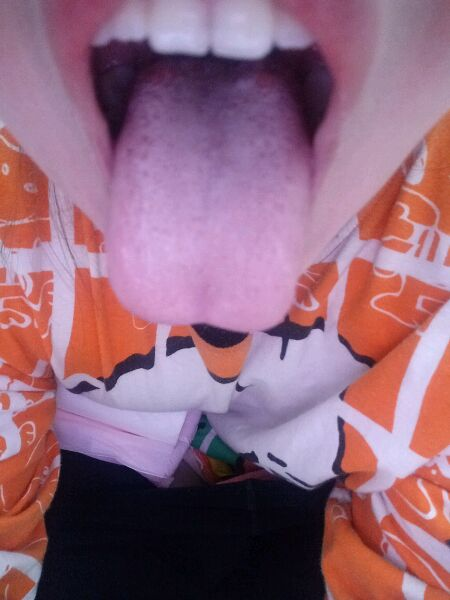baitaishe: (105, 54, 313, 332)
xinfeiao: (158, 301, 246, 332)
zishe: (105, 54, 313, 332)
